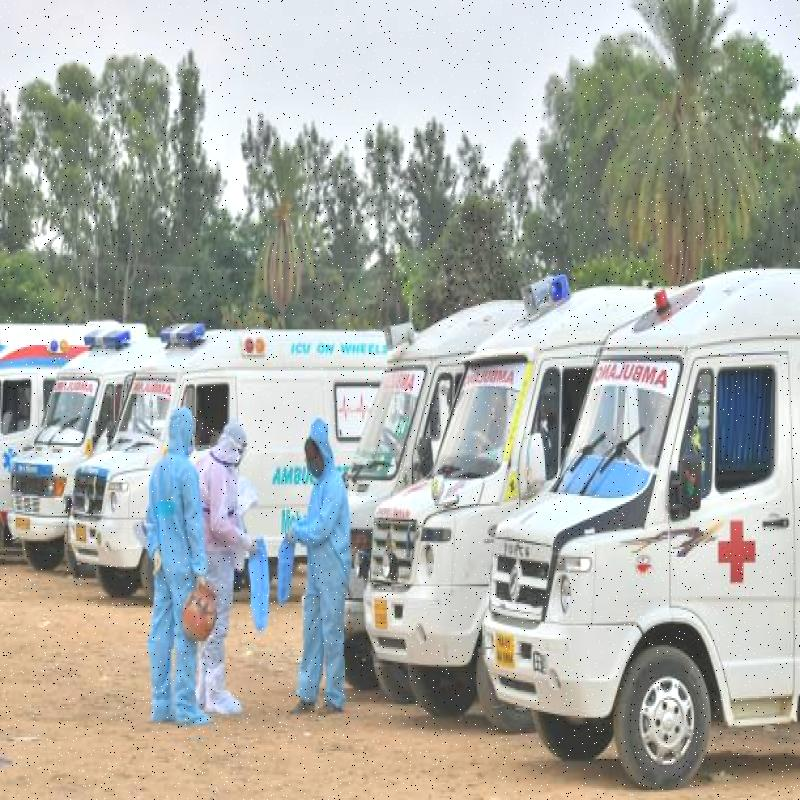ambulance: (490, 308, 800, 731)
